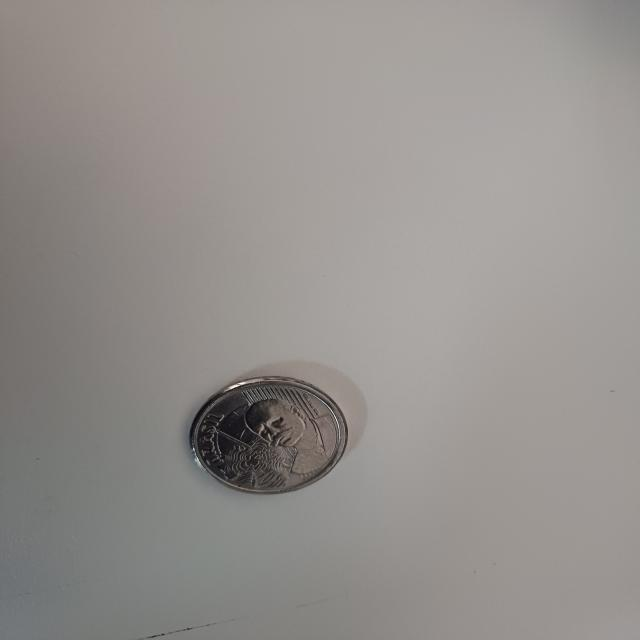50 cents: (190, 372, 354, 498)
